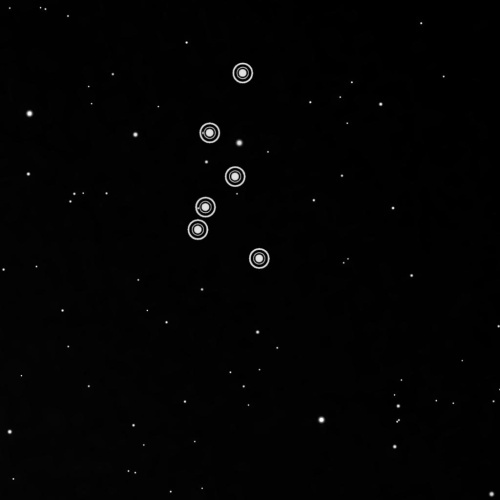cassiopeia: (182, 56, 276, 278)
